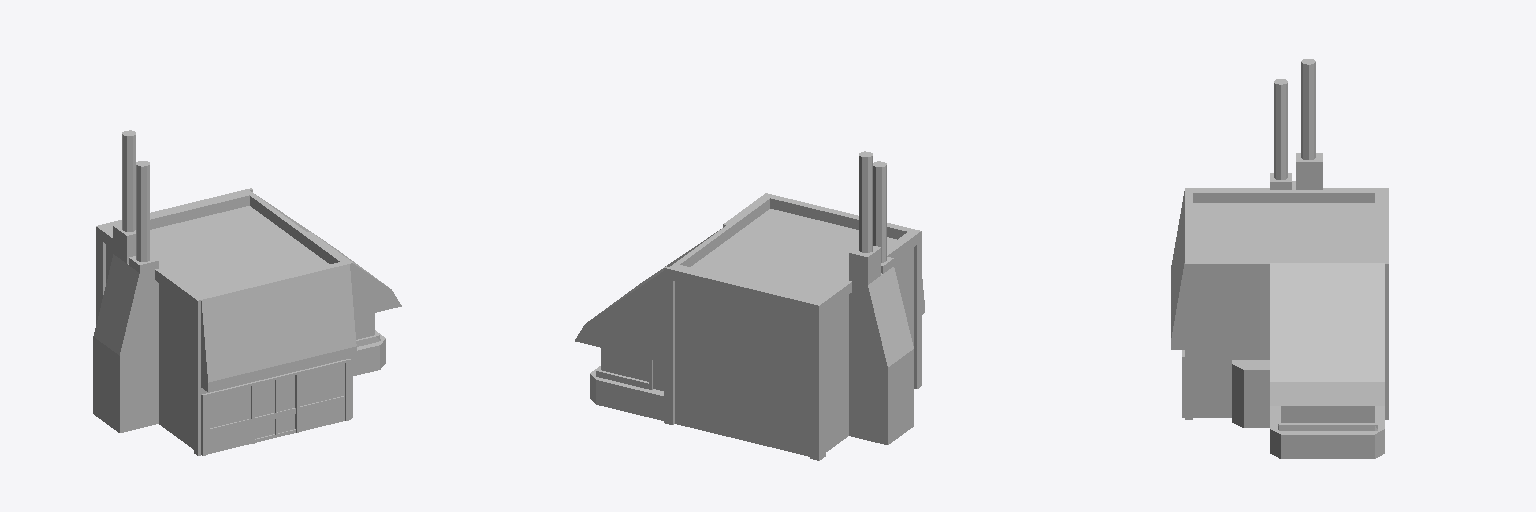
File: casa2.OBJ
3 views of the same model, side by side, from view 1: azimuth 30°, elevation 25°; view 2: azimuth 150°, elevation 25°; view 3: azimuth 270°, elevation 25° (orthographic).
Visible parts, largest first — view 1: Group35, Group28084, Group39960, Group39289, Group36075, Group22372, Group24690, Group29829, Group62103, Group6517; view 2: Group35, Group39289, Group39960, Group62103, Group24690, Group6517, Group43961, Group4360; view 3: Group35, Group62103, Group39289, Group6517, Group24690, Group48853, Group28084, Group43961, Group39960, Group4360.
Boxes of the visible parts, box(x1,y1,x2,y2) form: Group35: box(106, 206, 349, 449); Group28084: box(201, 264, 356, 392); Group39960: box(93, 224, 158, 432); Group39289: box(96, 188, 352, 455); Group36075: box(208, 364, 344, 428); Group22372: box(208, 396, 344, 453); Group24690: box(122, 130, 149, 261); Group29829: box(201, 359, 350, 455); Group62103: box(255, 194, 401, 317); Group6517: box(353, 330, 385, 375); Group35: box(675, 209, 913, 456); Group39289: box(664, 193, 921, 460); Group39960: box(849, 246, 913, 444); Group62103: box(575, 227, 723, 362); Group24690: box(859, 151, 886, 262); Group6517: box(590, 366, 663, 420); Group43961: box(601, 348, 663, 390); Group4360: box(596, 360, 652, 389); Group35: box(1193, 203, 1374, 417); Group62103: box(1270, 263, 1384, 405); Group39289: box(1185, 188, 1388, 419); Group6517: box(1270, 406, 1384, 458); Group24690: box(1274, 59, 1315, 179); Group48853: box(1232, 360, 1269, 427); Group28084: box(1171, 191, 1184, 349); Group43961: box(1281, 406, 1374, 422); Group39960: box(1270, 153, 1322, 189); Group4360: box(1278, 406, 1377, 430).
Bounding box in the file's own units: 0.4922 × 0.4645 × 0.3288.